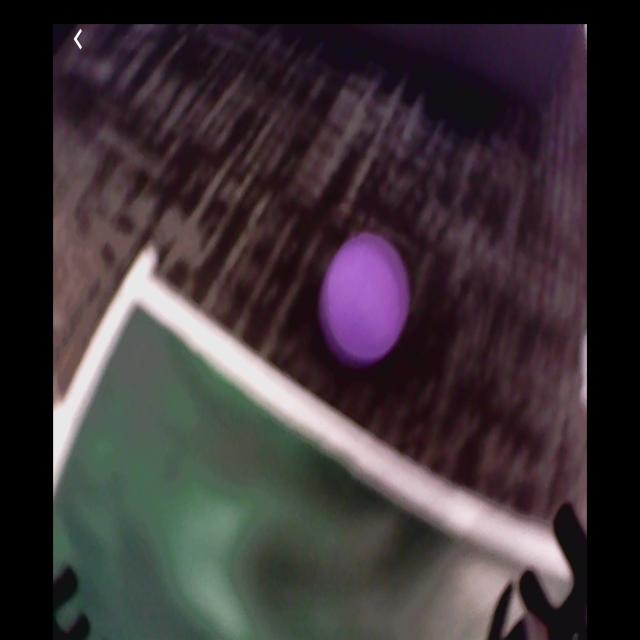ball: (321, 234, 414, 362)
